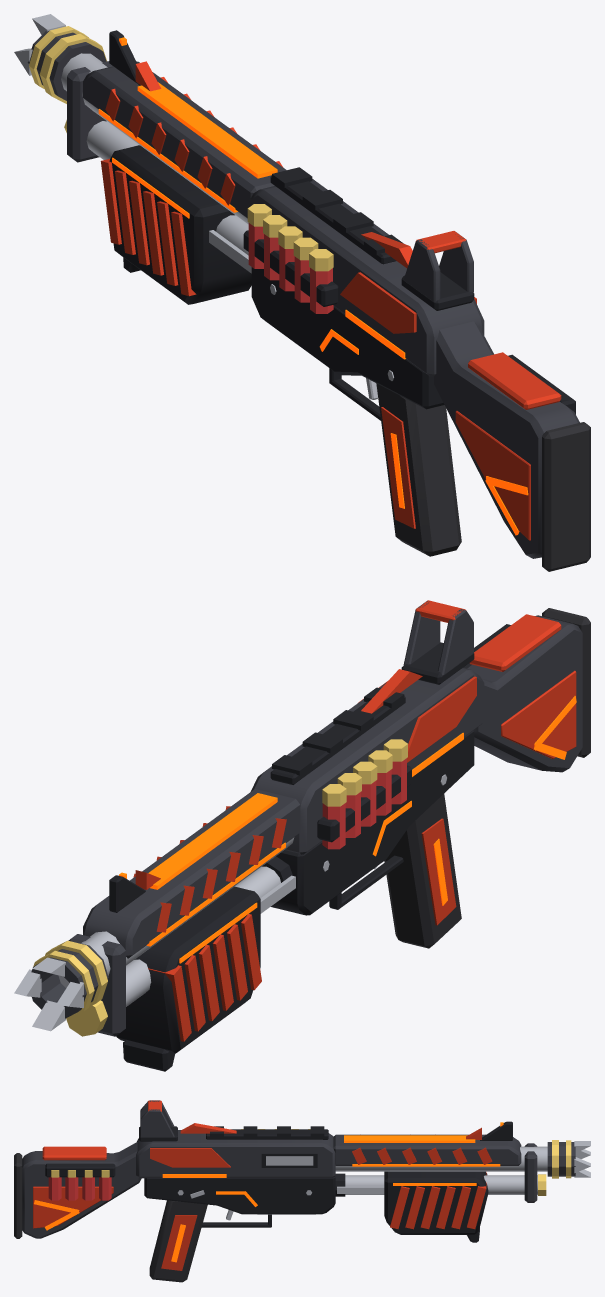
File: HavocPump.glb
3 renders of one model, top to bottom at view 1: azimuth 30°, elevation 25°; view 2: azimuth 150°, elevation 25°; view 3: azimuth 270°, elevation 25°, orthographic. The views are drawn at different scales.
Visible parts, largest first — view 1: Stock, Body, PumpBody, Lower, Grip, HeatShield, ButtPad, StockPlate, ShieldSpine, CheekRest, Armor, Clamp (+19 smaller); view 2: PumpBody, HeatShield, Lower, Body, Stock, Grip, StockPlate, ShieldSpine, CheekRest, Armor, Clamp, Rail (+26 smaller); view 3: Lower, Body, PumpBody, HeatShield, Stock, Grip, Barrel, StockPlate, Armor, Tube, GripInlay, ShieldSpine (+27 smaller).
Boxes of the visible parts, x1,y1,x2,y2 form: Stock: [434, 321, 579, 558]; Body: [249, 179, 484, 377]; PumpBody: [109, 145, 251, 304]; Lower: [251, 267, 444, 409]; Grip: [376, 383, 461, 556]; HeatShield: [83, 61, 286, 218]; ButtPad: [542, 422, 590, 571]; StockPlate: [455, 411, 530, 540]; ShieldSpine: [137, 82, 277, 178]; CheekRest: [468, 352, 561, 409]; Armor: [340, 272, 476, 333]; Clamp: [67, 61, 112, 162]; PumpBody: [116, 886, 260, 1053]; HeatShield: [83, 789, 300, 958]; Lower: [271, 730, 474, 915]; Body: [250, 668, 484, 854]; Stock: [467, 615, 582, 772]; Grip: [384, 793, 461, 948]; StockPlate: [501, 670, 576, 758]; ShieldSpine: [148, 793, 277, 889]; CheekRest: [470, 614, 561, 671]; Armor: [358, 676, 476, 762]; Clamp: [68, 934, 125, 1036]; Rail: [270, 696, 405, 784]; Lower: [144, 1176, 335, 1214]; Body: [136, 1130, 335, 1178]; PumpBody: [384, 1171, 488, 1234]; HeatShield: [333, 1134, 521, 1165]; Stock: [22, 1142, 141, 1238]; Grip: [149, 1200, 207, 1282]; Barrel: [335, 1146, 547, 1171]; StockPlate: [33, 1186, 113, 1228]; Armor: [150, 1148, 230, 1167]; Tube: [345, 1175, 537, 1194]; GripInlay: [161, 1215, 197, 1270]; ShieldSpine: [344, 1135, 475, 1142].
Size of the model in its own units: 0.3796 by 1.37 by 4.14.
